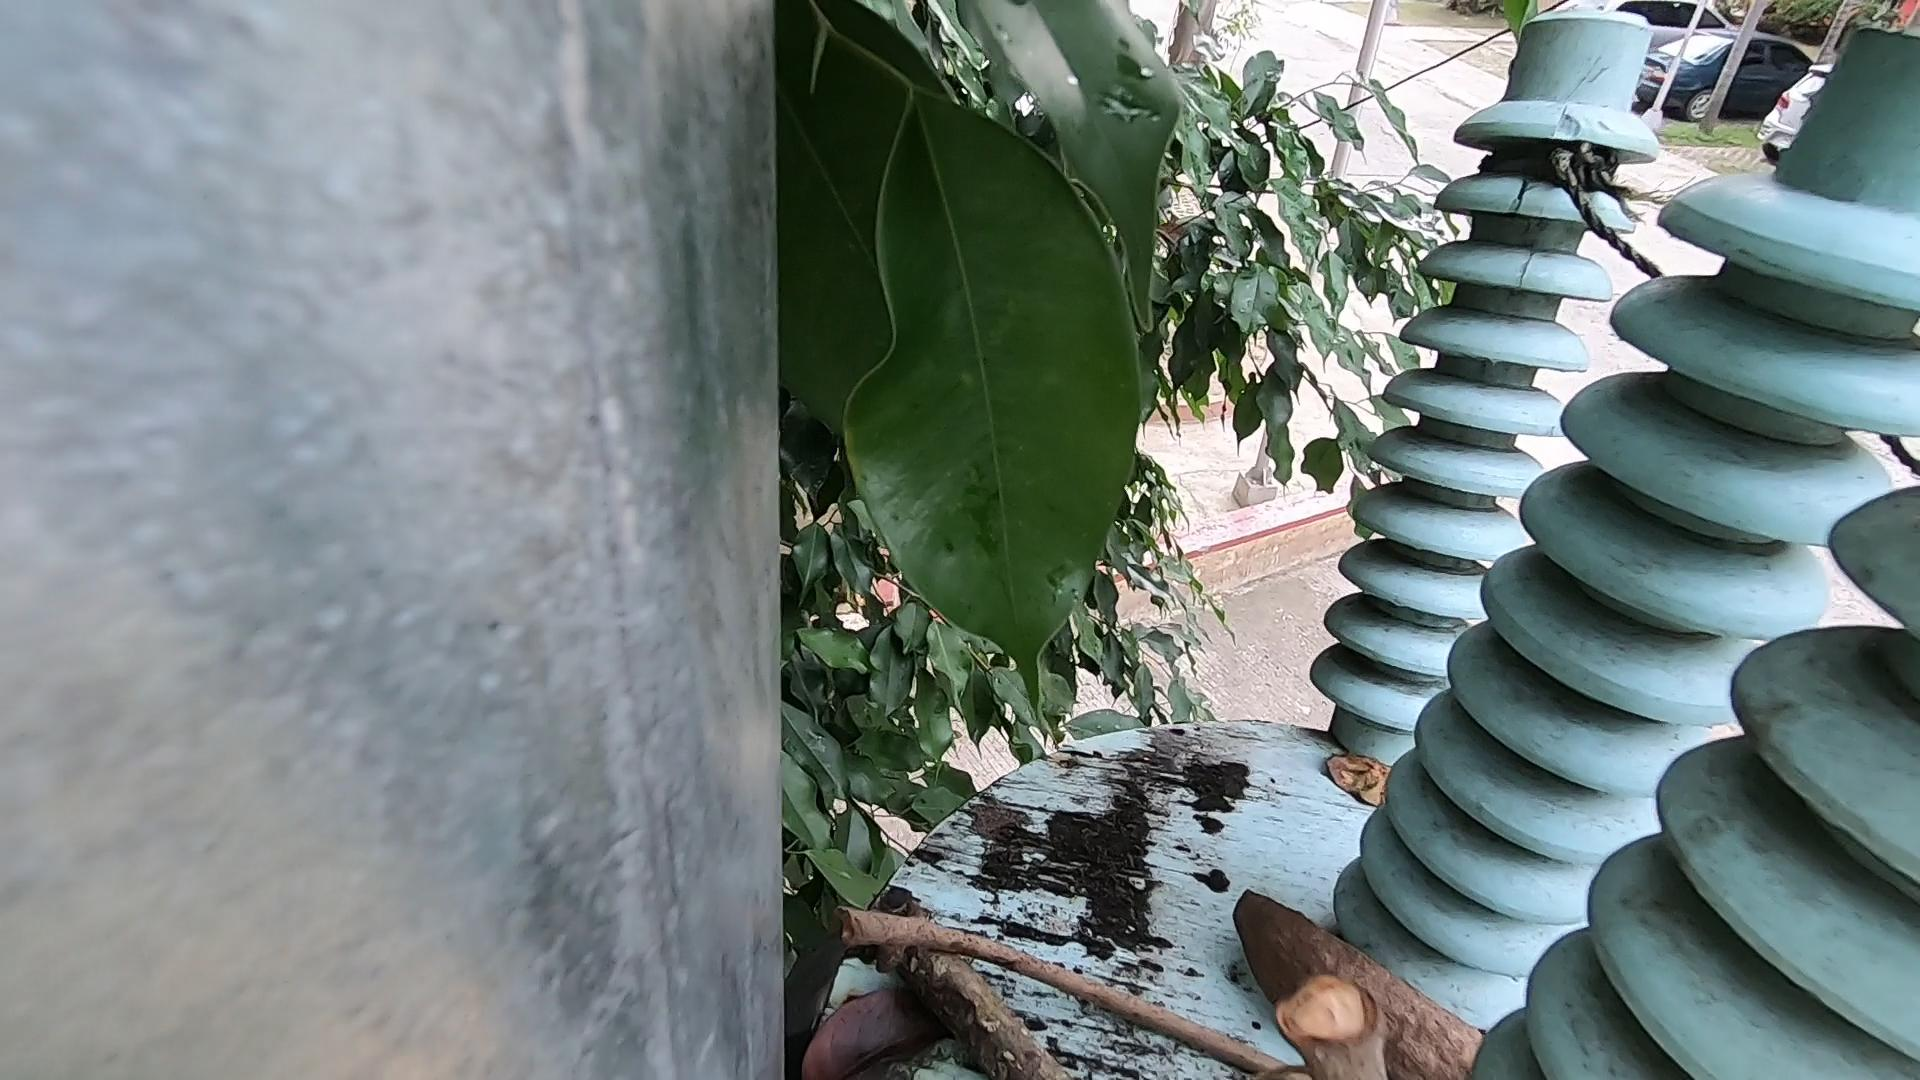branch with leaves: (858, 874, 1073, 1080)
leaf: (1320, 717, 1420, 836)
mahogany fruit: (1211, 874, 1396, 1080)
tree branch: (849, 895, 1280, 1073), (1262, 967, 1370, 1080)
